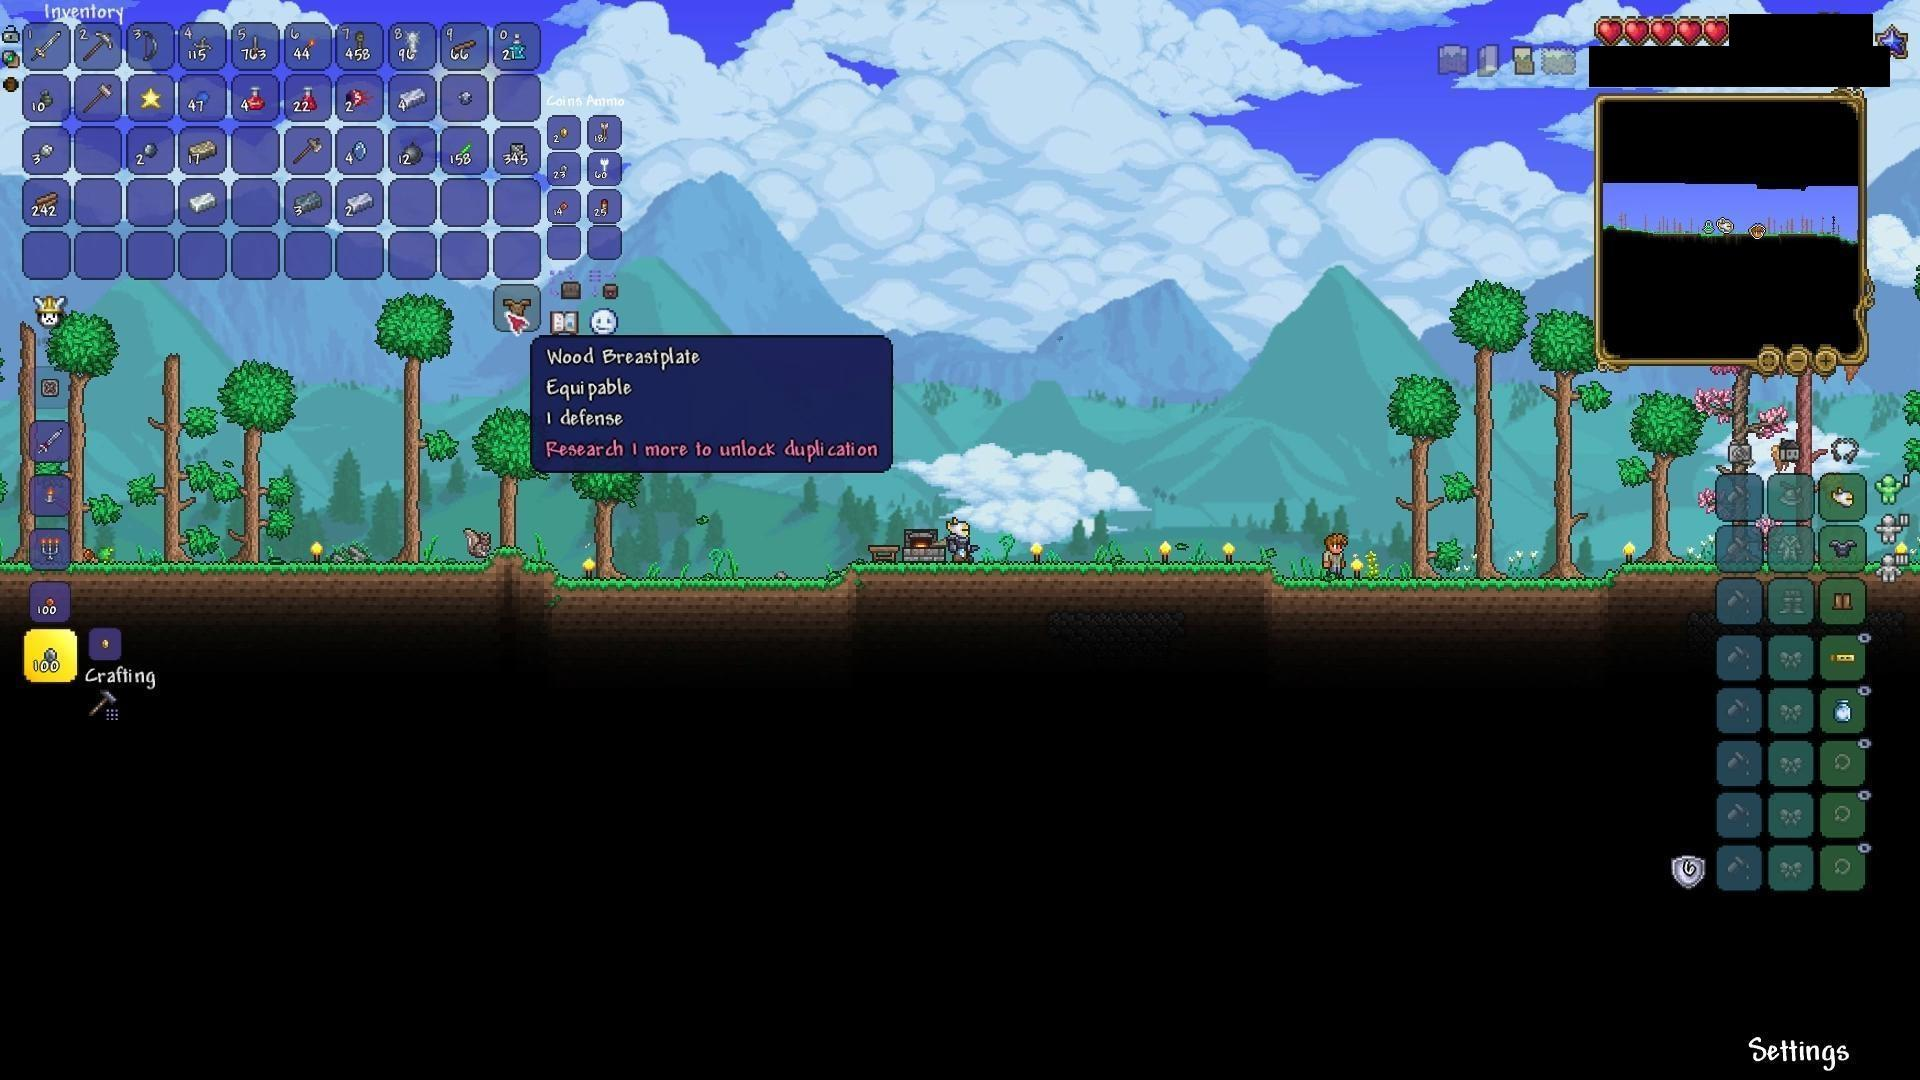dirt: (539, 550, 1270, 588), (67, 550, 477, 601), (1280, 566, 1720, 600)
heart: (1702, 17, 1733, 51), (1593, 16, 1626, 46), (1676, 15, 1704, 50), (1650, 16, 1676, 49), (1625, 15, 1651, 44)
tree: (1457, 266, 1519, 588), (65, 309, 128, 567), (1535, 309, 1590, 592), (388, 289, 435, 562), (1386, 371, 1441, 587), (152, 328, 195, 556), (228, 359, 276, 562), (1631, 397, 1688, 564), (483, 397, 535, 567), (575, 475, 644, 597)
